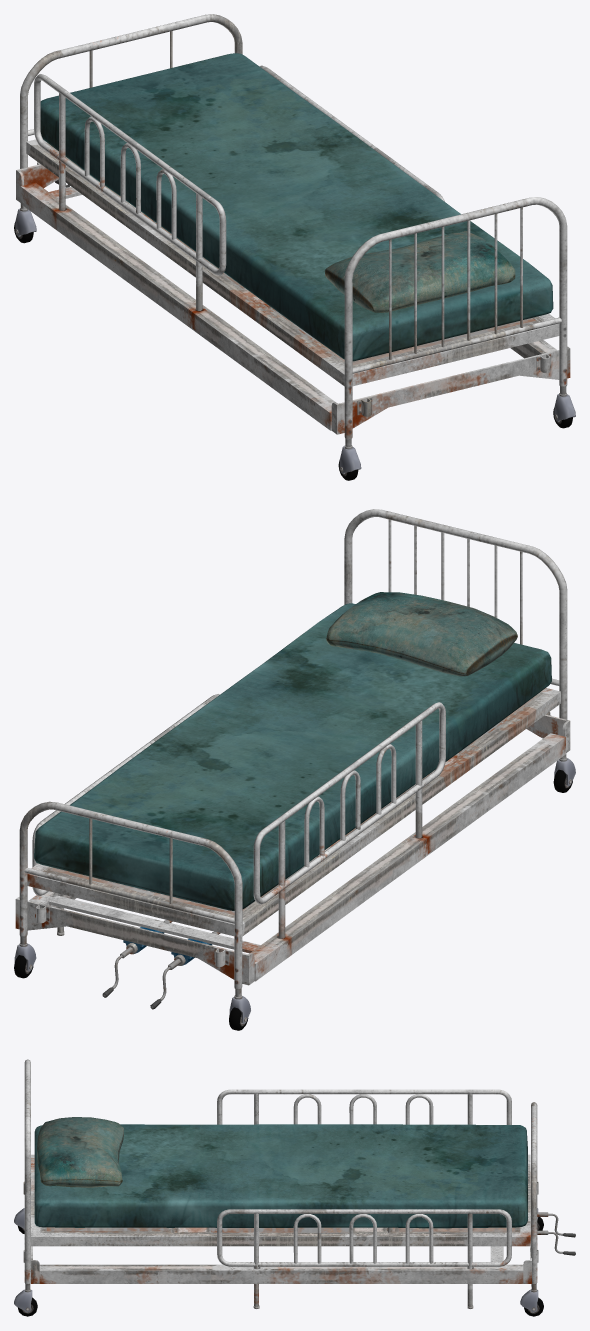
Rendered from hospital_bed_1.glb.
3 renders of one model, top to bottom at view 1: azimuth 30°, elevation 25°; view 2: azimuth 150°, elevation 25°; view 3: azimuth 270°, elevation 25°, orthographic. The views are drawn at different scales.
Visible parts, largest first — view 1: Bed1Matress, Bed1; view 2: Bed1Matress, Bed1; view 3: Bed1Matress, Bed1.
Boxes of the visible parts, bbox=[...] form: Bed1Matress: bbox=[40, 53, 553, 361]; Bed1: bbox=[14, 14, 575, 480]; Bed1Matress: bbox=[34, 592, 551, 910]; Bed1: bbox=[14, 509, 575, 1030]; Bed1Matress: bbox=[34, 1117, 527, 1228]; Bed1: bbox=[14, 1059, 575, 1316].
Bounding box in the file's own units: 0.8213 × 0.7922 × 2.18.
Materials: 2 (2 with a texture image).
